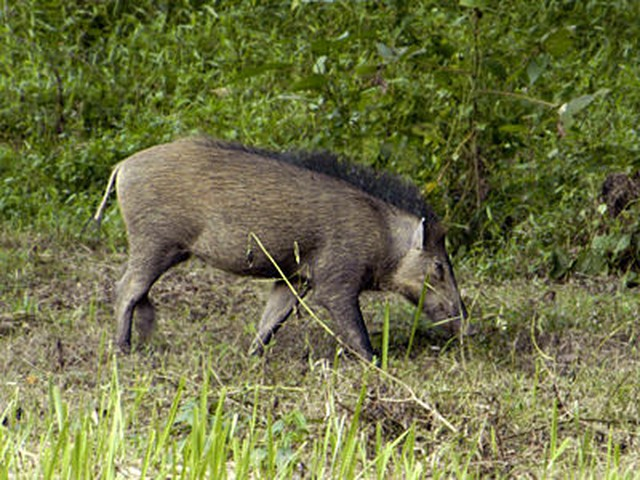Pig: (85, 137, 485, 356)
